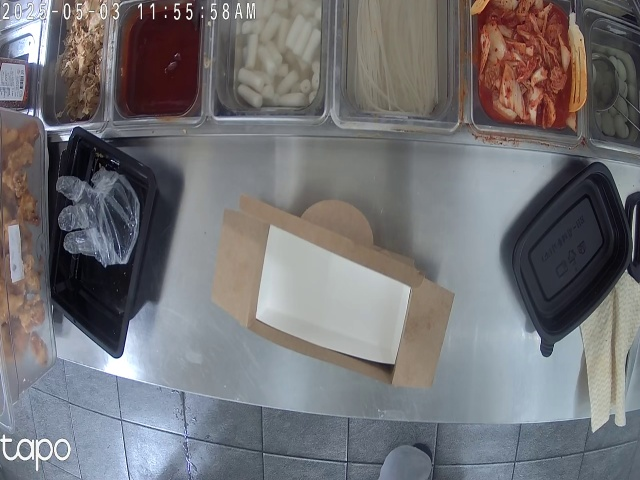delivery box: (222, 191, 466, 402)
